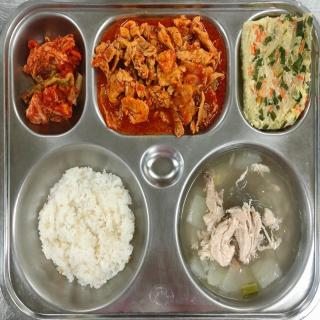Nasi: (30, 164, 144, 283)
